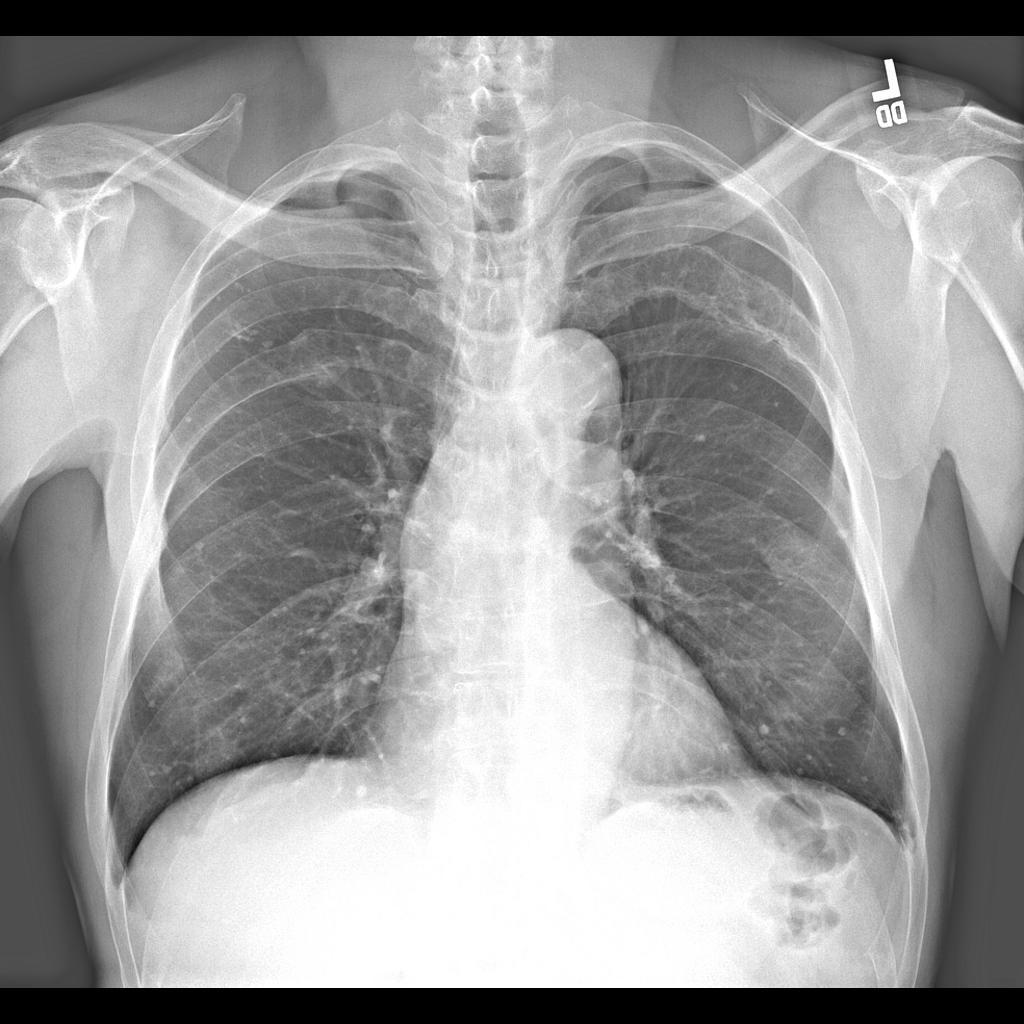Nodule: (280, 317, 354, 406)
